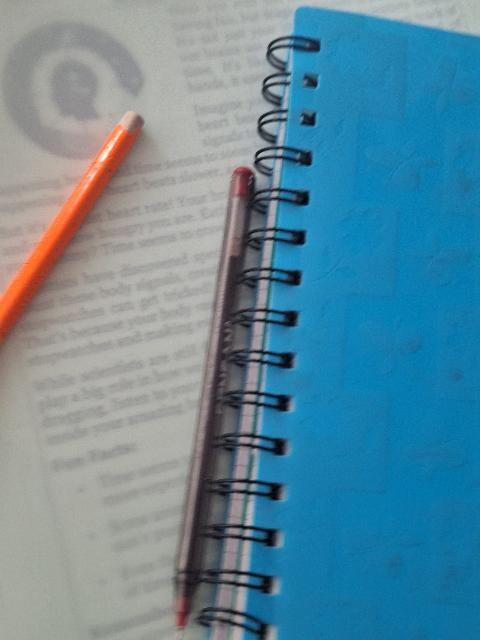writing_tool: (166, 170, 251, 631), (1, 113, 148, 342)
